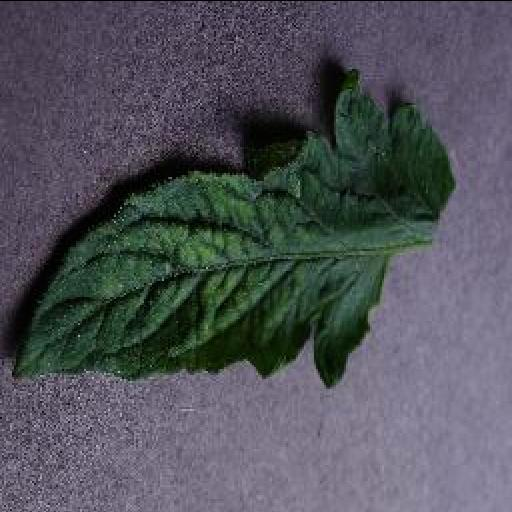Mosaic Virus: (10, 69, 458, 387)
